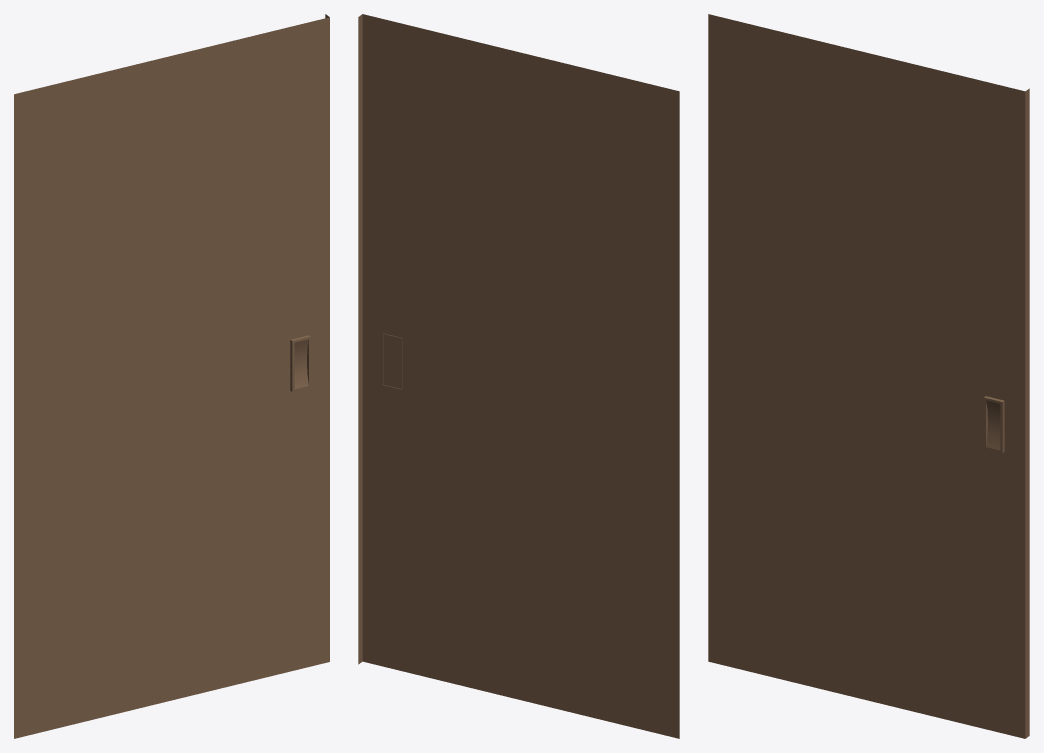
The model's file is Puerta Armario Der 2.fbx.
The picture shows the model from 3 angles, left to right: view 1: azimuth 30°, elevation 25°; view 2: azimuth 150°, elevation 25°; view 3: azimuth 330°, elevation 25°; orthographic projection.
Visible parts, largest first — view 1: Puerta_Armario_Der_2; view 2: Puerta_Armario_Der_2; view 3: Puerta_Armario_Der_2.
Part boxes in pixels (x1,y1,x2,y2): Puerta_Armario_Der_2: [14, 14, 329, 738]; Puerta_Armario_Der_2: [358, 14, 679, 738]; Puerta_Armario_Der_2: [708, 14, 1029, 738].
Size of the model in its own units: 0.8417 by 1.64 by 0.0293.
